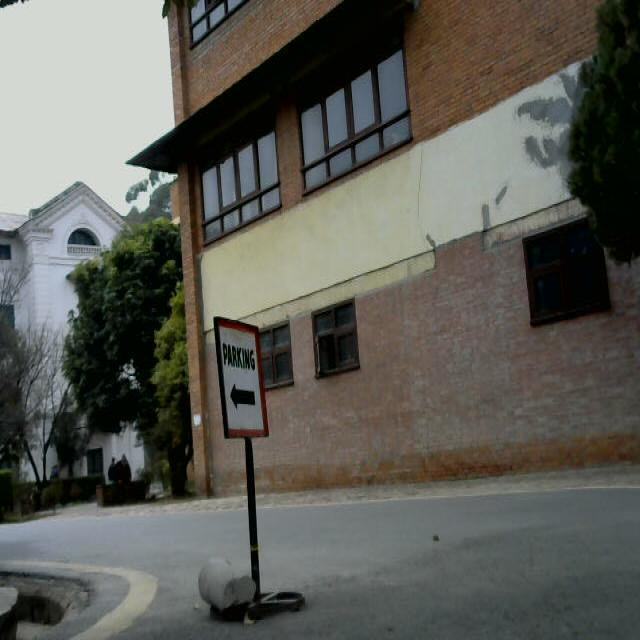Buildings: (158, 0, 640, 501)
Parking: (206, 308, 309, 640)
Road: (0, 511, 640, 640)
trees: (49, 216, 189, 484), (556, 0, 639, 271), (0, 265, 63, 524)
